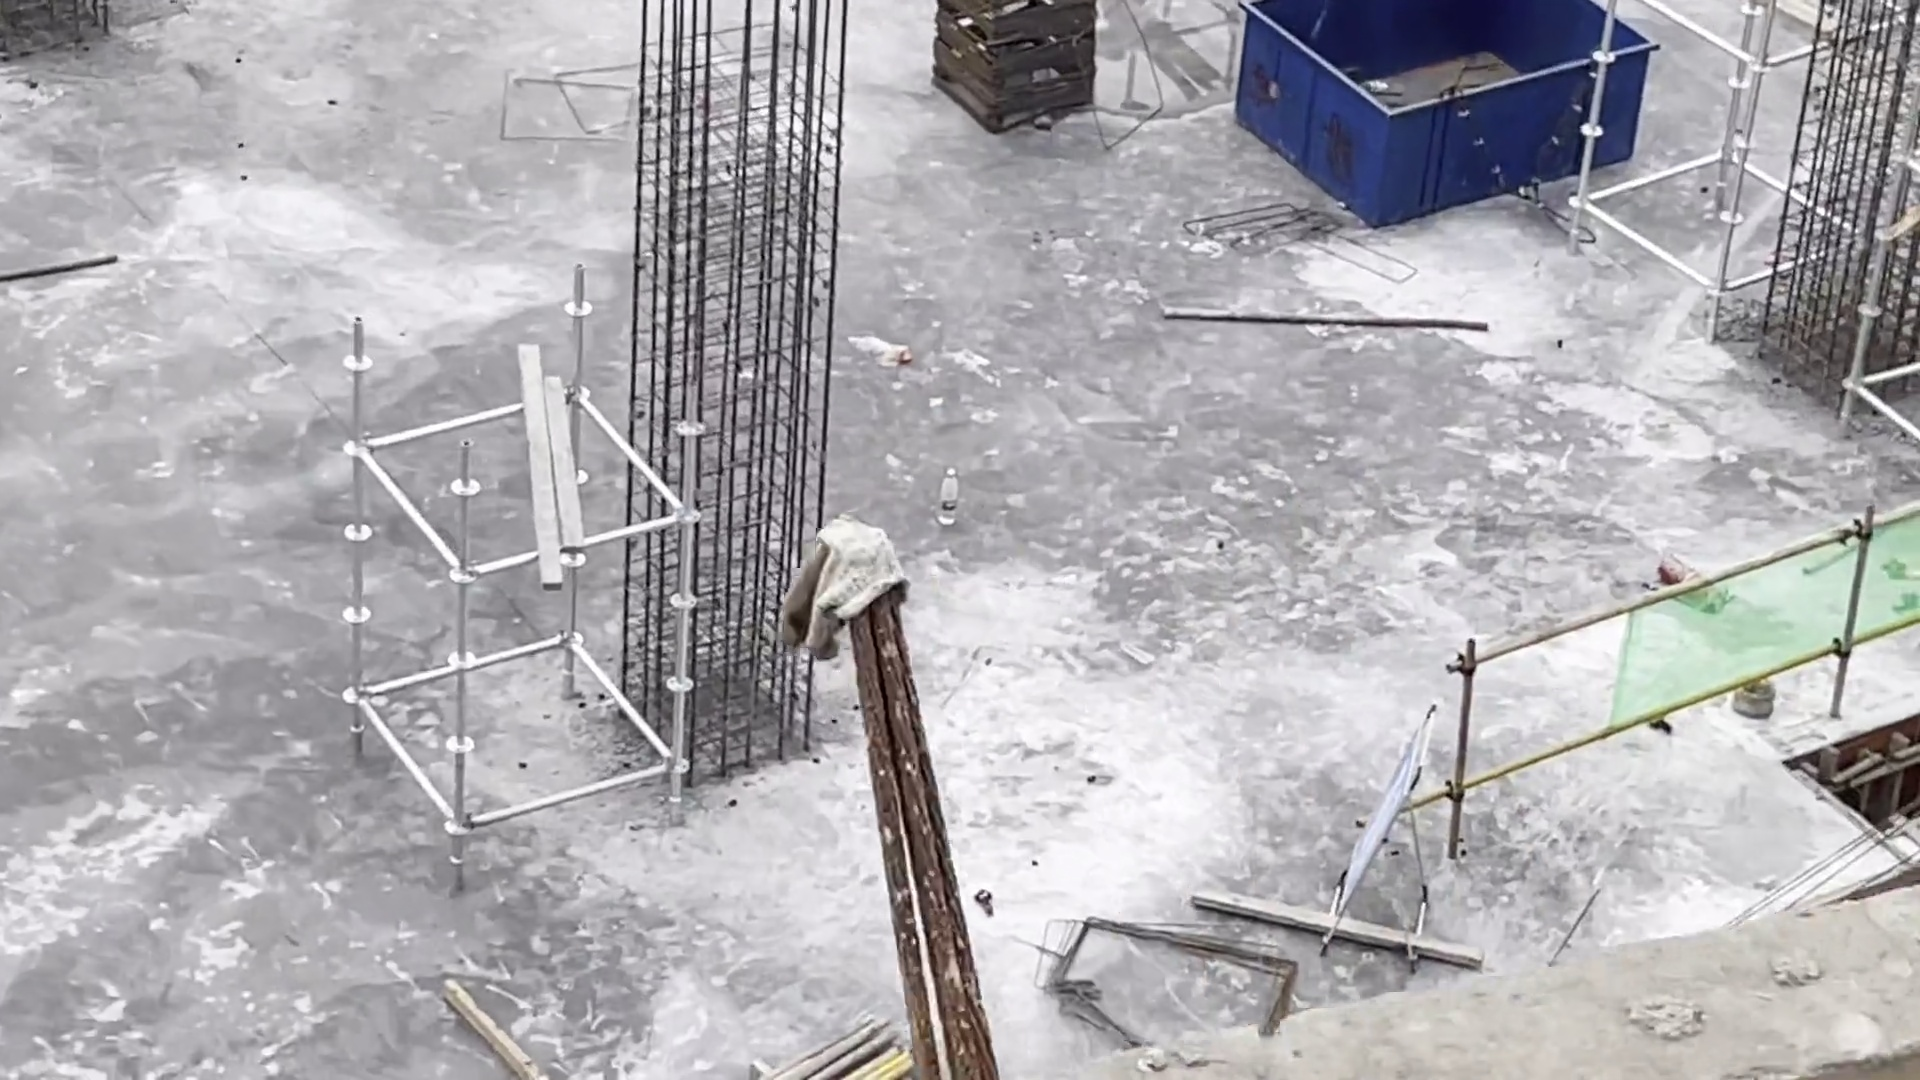hopper: (1228, 1, 1659, 229)
